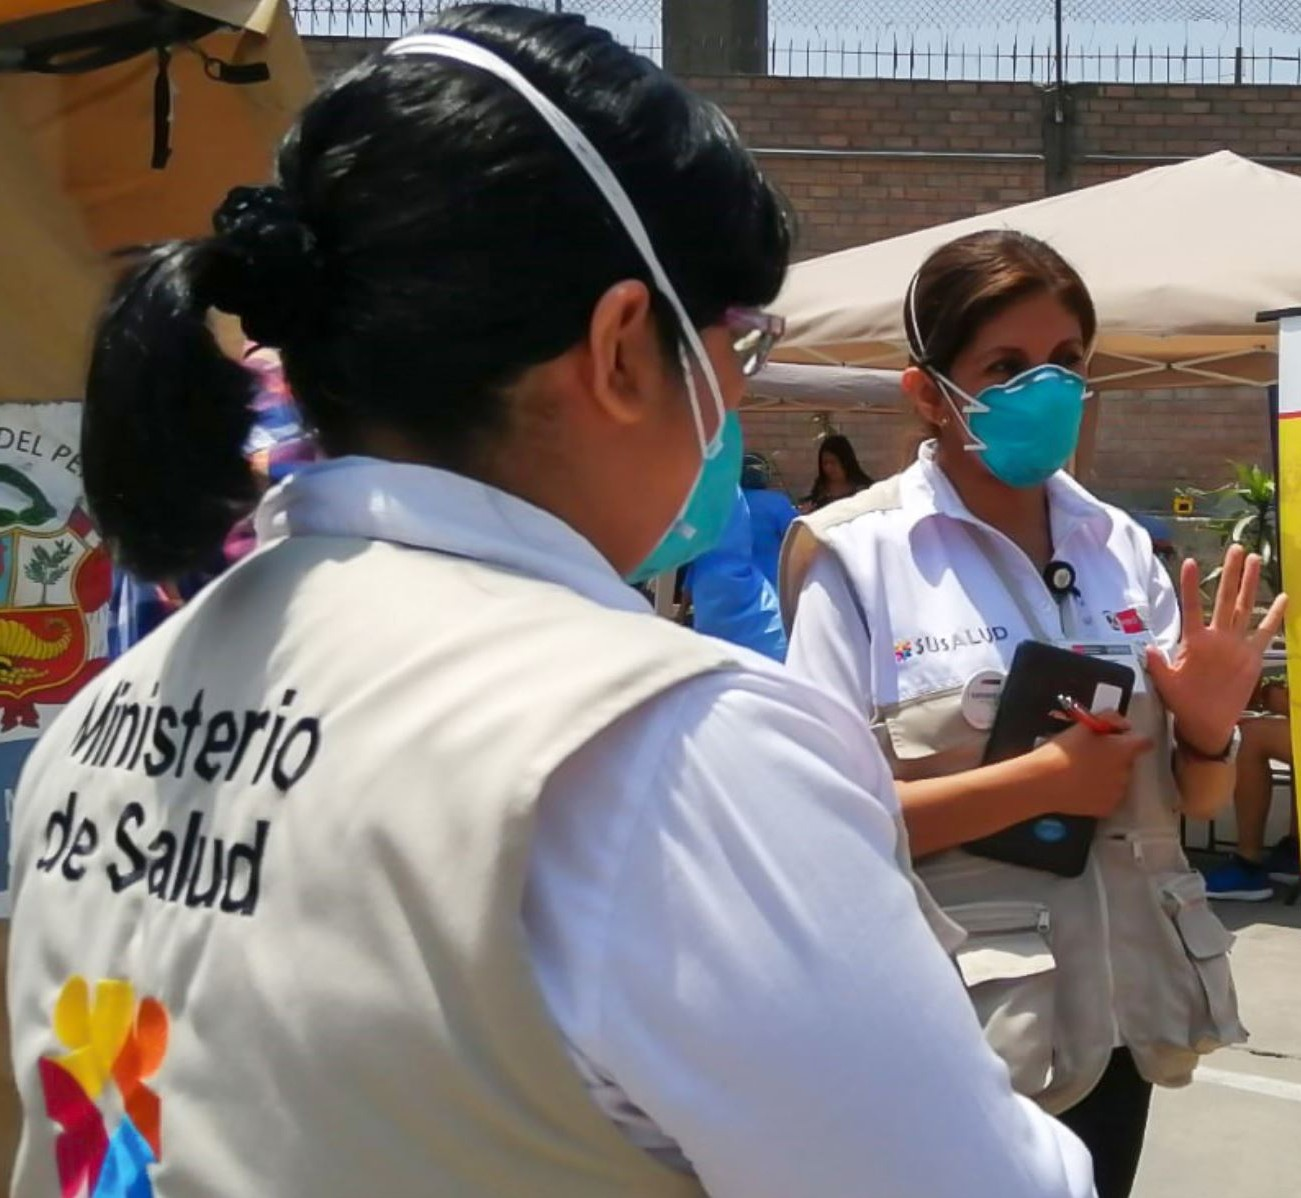with_mask: (545, 134, 807, 604), (915, 259, 1113, 495)
without_mask: (812, 434, 866, 486)
